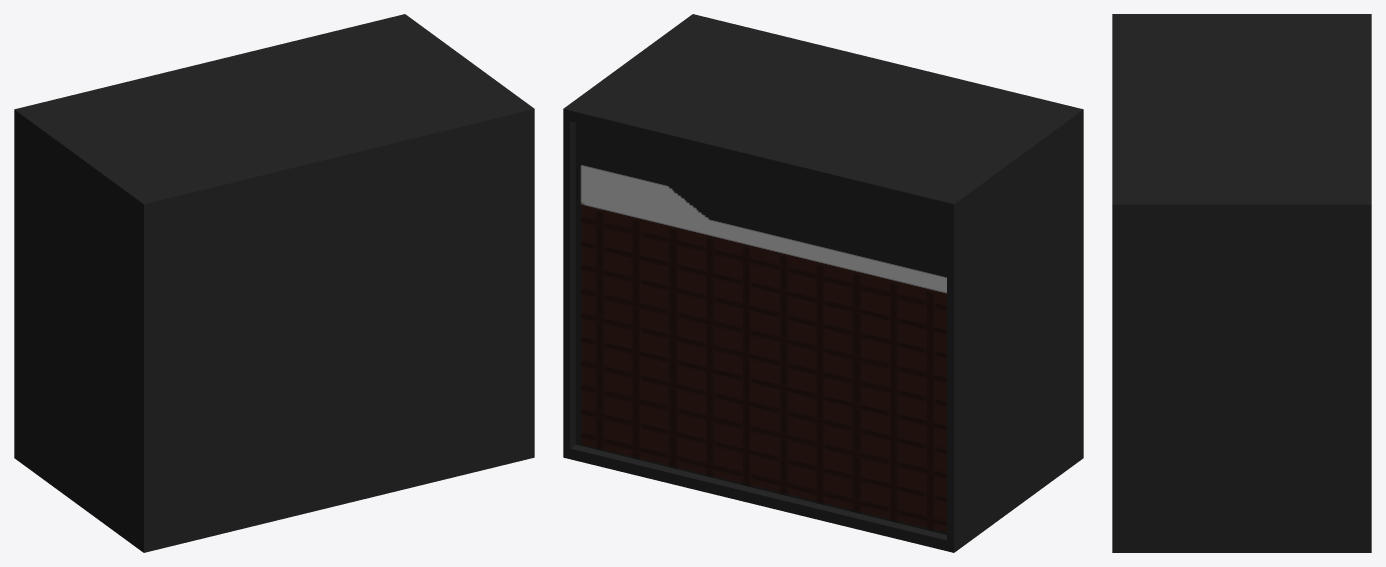
The model's file is Small_Speaker_3.fbx.
3 views of the same model, side by side, from view 1: azimuth 30°, elevation 25°; view 2: azimuth 150°, elevation 25°; view 3: azimuth 270°, elevation 25° (orthographic).
Visible parts, largest first — view 1: Small_Speaker_3; view 2: Small_Speaker_3; view 3: Small_Speaker_3.
Boxes of the visible parts, x1,y1,x2,y2 form: Small_Speaker_3: [14, 14, 534, 552]; Small_Speaker_3: [563, 14, 1083, 552]; Small_Speaker_3: [1112, 14, 1371, 552].
Bounding box in the file's own units: 2.28 × 1.94 × 1.31.
